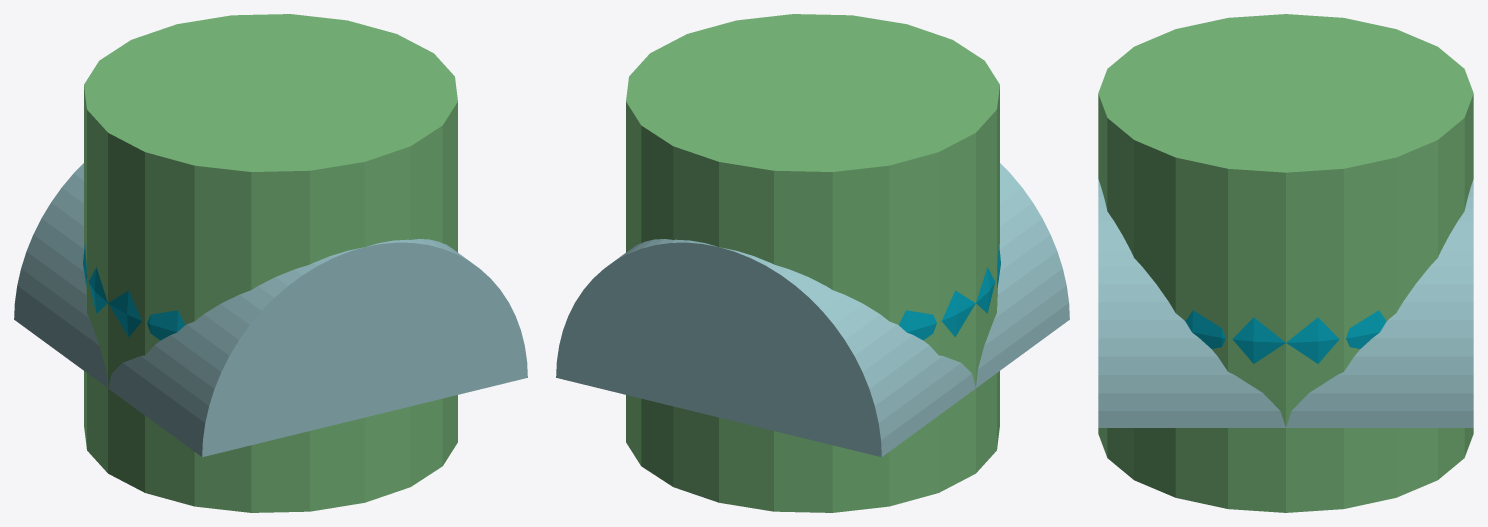
File: Brilliant Sango-Kasi.glb
The picture shows the model from 3 angles, left to right: view 1: azimuth 30°, elevation 25°; view 2: azimuth 150°, elevation 25°; view 3: azimuth 270°, elevation 25°; orthographic projection.
Parts seen in each view (by area): view 1: Mesh_Mesh_head_geo.001_lambert2SG.001; view 2: Mesh_Mesh_head_geo.001_lambert2SG.001; view 3: Mesh_Mesh_head_geo.001_lambert2SG.001.
Part boxes in pixels (x1,y1,x2,y2): Mesh_Mesh_head_geo.001_lambert2SG.001: (14,14,527,512); Mesh_Mesh_head_geo.001_lambert2SG.001: (556,14,1069,512); Mesh_Mesh_head_geo.001_lambert2SG.001: (1098,14,1473,512).
Bounding box in the file's own units: 20 × 20 × 20.
